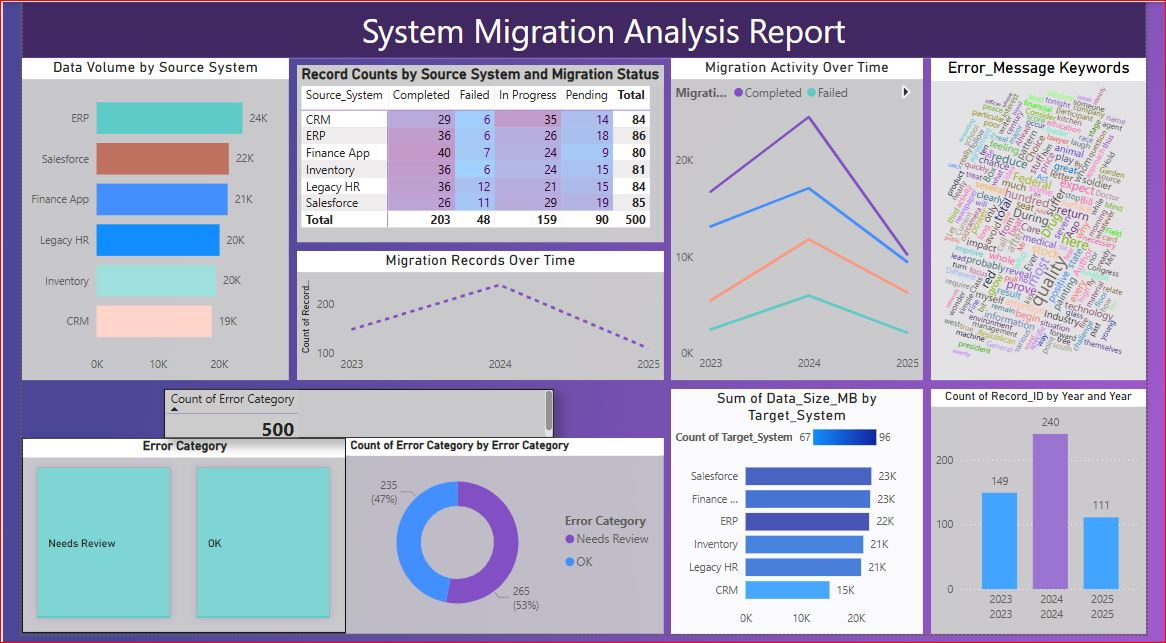

Layout of this report page (visuals, bound fields, positions):
{"tool":"powerbi","page":{"name":"Page 1","canvas":[1280,720],"ordinal":0},"visuals":[{"type":"advancedSlicerVisual","fields":{"Values":["Sheet1.Error Category"]},"box":[0,496.7,369.1,222.2],"z":0},{"type":"tableEx","fields":{"Values":["Sheet1.Error Category"]},"box":[161.8,440.9,444.3,55.8],"z":1000},{"type":"donutChart","fields":{"Category":["Sheet1.Error Category"],"Y":["Sheet1.Error Category"]},"box":[369.1,496.7,362.3,223.3],"z":2000},{"type":"clusteredColumnChart","fields":{"Category":["Sheet1.Record_Created_Date.Variation.Date Hierarchy.Year","Sheet1.Record_Created_Date.Variation.Date Hierarchy.Quarter","Sheet1.Record_Created_Date.Variation.Date Hierarchy.Month","Sheet1.Record_Created_Date.Variation.Date Hierarchy.Day","Sheet1.Record_Created_Date.Variation.Date Hierarchy.Year","Sheet1.Record_Created_Date.Variation.Date Hierarchy.Quarter","Sheet1.Record_Created_Date.Variation.Date Hierarchy.Month","Sheet1.Record_Created_Date.Variation.Date Hierarchy.Day"],"Y":["Sheet1.Record_ID"]},"box":[1035.6,440.9,244.9,279.1],"z":3000},{"type":"shape","box":[0,0,1280.5,63.8],"z":4000},{"type":"barChart","fields":{"Category":["Sheet1.Target_System"],"Y":["Sheet1.Data_Size_MB"]},"box":[739.4,440.9,287.1,279.1],"z":5000},{"type":"WordCloud1447959067750","title":"Error_Message Keywords","fields":{"Category":["Sheet1.Error_Message"]},"box":[1035.6,63.8,244.9,366.8],"z":6000},{"type":"lineChart","title":"Migration Activity Over Time","fields":{"Category":["Sheet1.Record_Created_Year"],"Y":["Sheet1.Data_Size_MB"],"Series":["Sheet1.Migration_Status"]},"box":[739.4,63.8,287.1,366.8],"z":7000},{"type":"pivotTable","title":"Record Counts by Source System and Migration Status","fields":{"Rows":["Sheet1.Source_System"],"Columns":["Sheet1.Migration_Status"],"Values":["Sheet1.Record_ID"]},"box":[313.3,71.8,418.1,201.6],"z":9000},{"type":"barChart","title":"Data Volume by Source System","fields":{"Category":["Sheet1.Source_System"],"Y":["Sheet1.Data_Size_MB"]},"box":[0,63.8,304.2,366.8],"z":10000},{"type":"lineChart","title":"Migration Records Over Time","fields":{"Category":["Sheet1.Record_Created_Date.Variation.Date Hierarchy.Year","Sheet1.Record_Created_Date.Variation.Date Hierarchy.Quarter","Sheet1.Record_Created_Date.Variation.Date Hierarchy.Month","Sheet1.Record_Created_Date.Variation.Date Hierarchy.Day"],"Y":["Sheet1.Record_ID"]},"box":[313.3,283.7,418.1,147],"z":11000},{"type":"textbox","box":[100.3,1.1,1124.4,60.4],"z":12000}]}

Visuals, with their boxes in screenshot pixels (x1, y1, x2, y2), scaled from the page's 1280x720 canvas onto the 1166x643 screenshot:
advancedSlicerVisual - Sheet1.Error Category: left=0, top=444, right=336, bottom=642
tableEx - Sheet1.Error Category: left=147, top=394, right=552, bottom=444
donutChart - Sheet1.Error Category x Sheet1.Error Category: left=336, top=444, right=666, bottom=642
clusteredColumnChart - Sheet1.Record_Created_Date.Variation.Date Hierarchy.Year x Sheet1.Record_Created_Date.Variation.Date Hierarchy.Quarter: left=943, top=394, right=1165, bottom=642
shape: left=0, top=0, right=1165, bottom=57
barChart - Sheet1.Target_System x Sheet1.Data_Size_MB: left=674, top=394, right=935, bottom=642
"Error_Message Keywords" WordCloud1447959067750: left=943, top=57, right=1165, bottom=385
"Migration Activity Over Time" lineChart: left=674, top=57, right=935, bottom=385
"Record Counts by Source System and Migration Status" pivotTable: left=285, top=64, right=666, bottom=244
"Data Volume by Source System" barChart: left=0, top=57, right=277, bottom=385
"Migration Records Over Time" lineChart: left=285, top=253, right=666, bottom=385
textbox: left=91, top=1, right=1116, bottom=55
